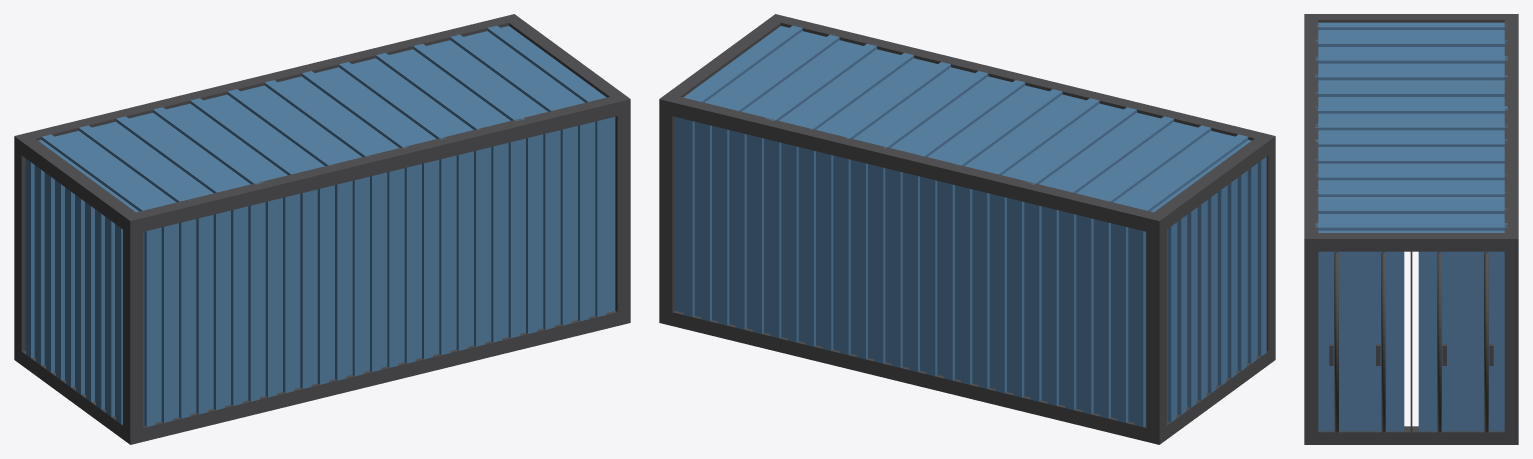
Rendered from container_blue.glb.
3 views of the same model, side by side, from view 1: azimuth 30°, elevation 25°; view 2: azimuth 150°, elevation 25°; view 3: azimuth 270°, elevation 25° (orthographic). The views are drawn at different scales.
Parts seen in each view (by area): view 1: Container; view 2: Container; view 3: Container.
Boxes of the visible parts, box(x1,y1,x2,y2) form: Container: box(14, 14, 630, 444); Container: box(659, 14, 1275, 444); Container: box(1304, 14, 1518, 444).
Size of the model in its own units: 6.12 by 2.59 by 2.44.
